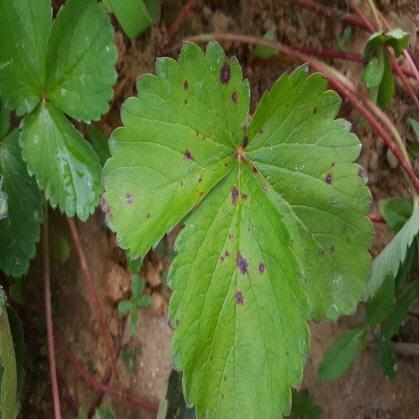Leaf Spot: (164, 150, 312, 418), (239, 62, 375, 325), (97, 35, 250, 260)
